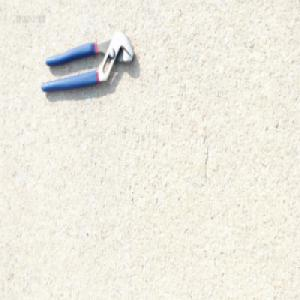Pliers: (40, 32, 134, 96)
